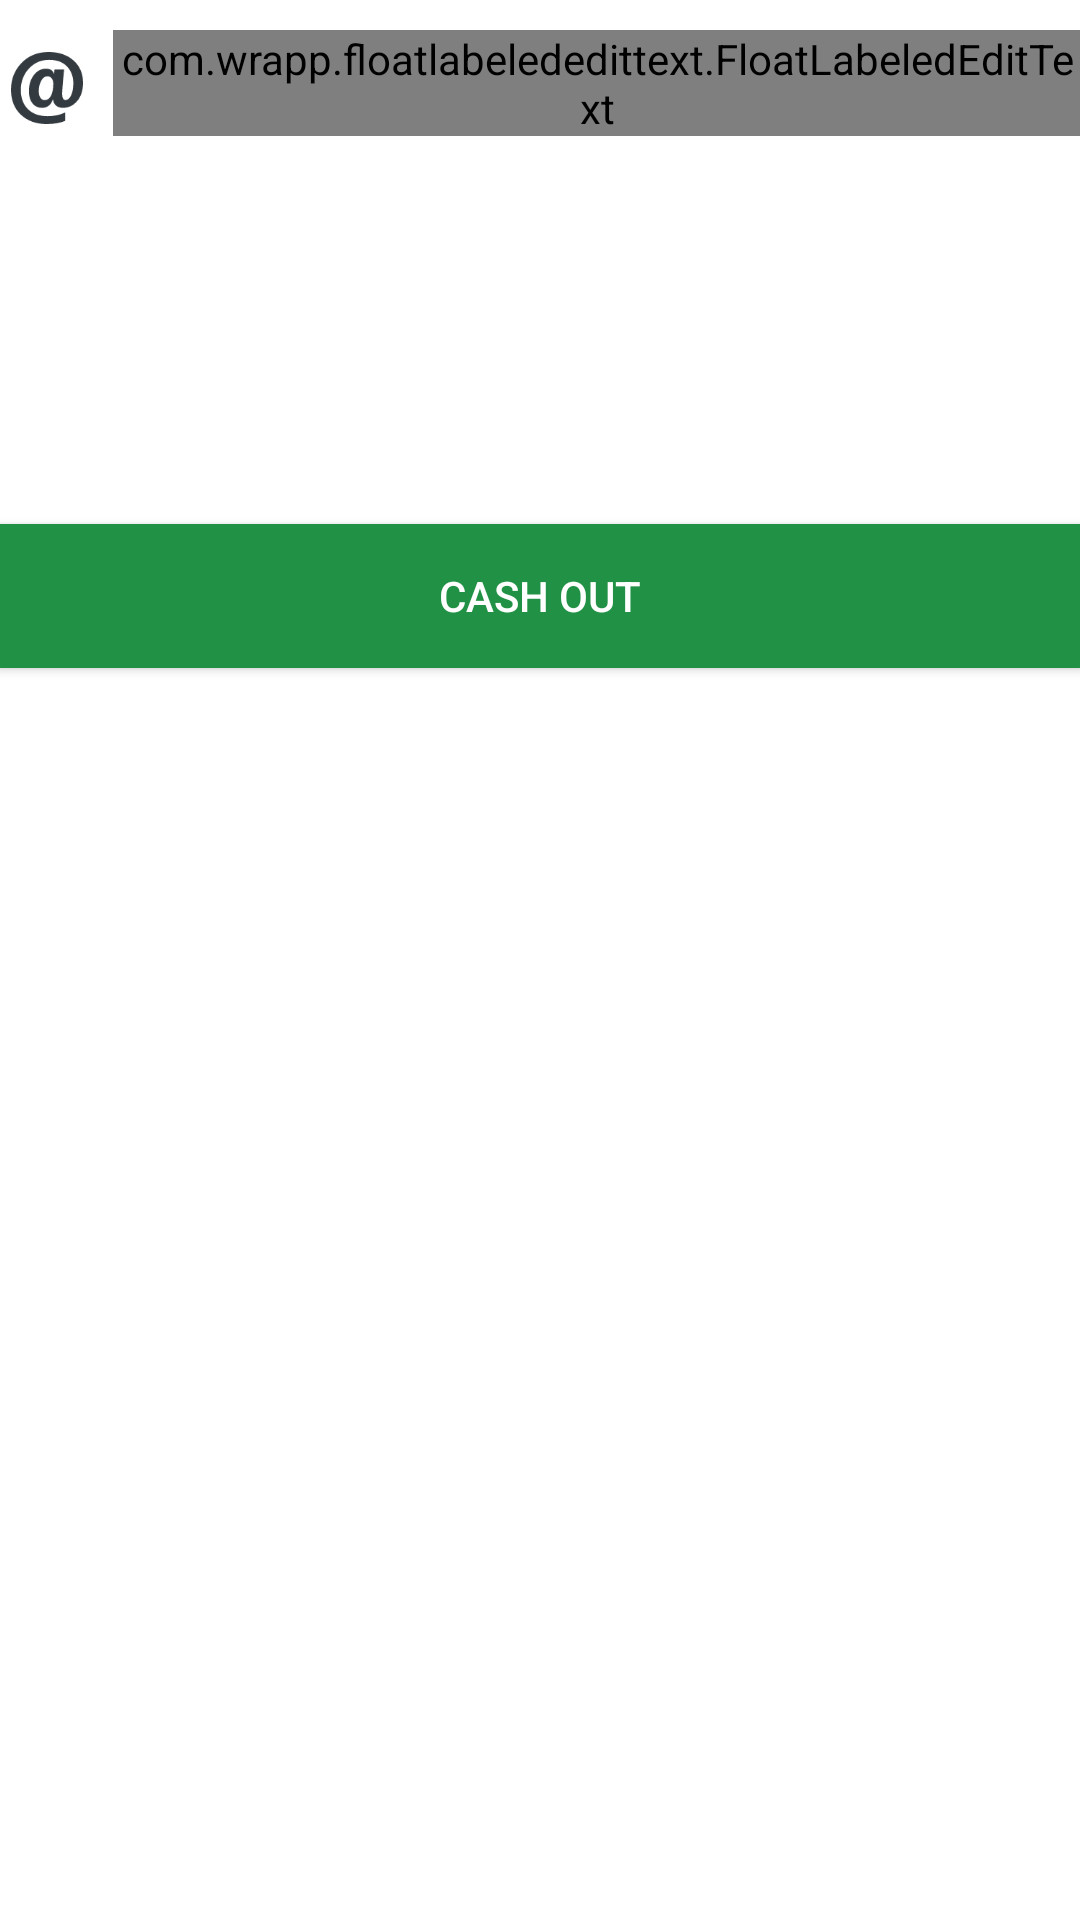

Icon click points for this 1080w x 1920h phone screenshot, format [x,y]:
myemaildark: [47,88]
